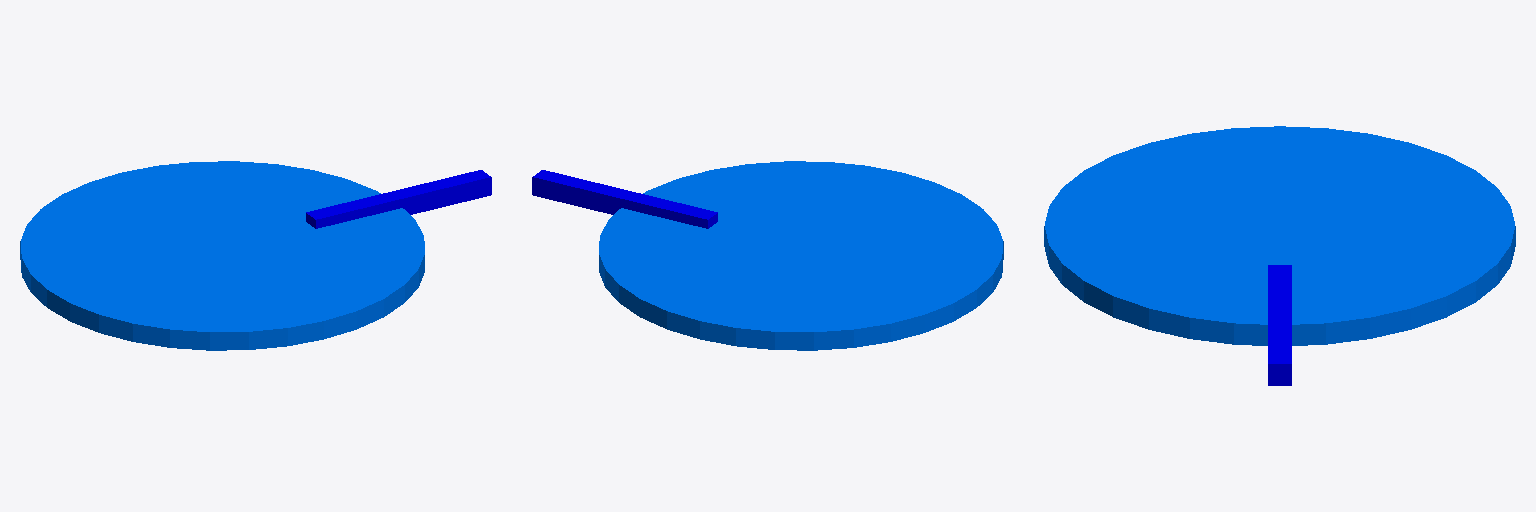
The robot description file, URDF, robot "disk":
<?xml version="1.0"?>
    <robot name="disk">
        <link name="world">
            <inertial>
                <mass value="0"/>
                <origin rpy="0 0 0" xyz="0 0 0"/>
                <inertia ixx="0" ixy="0" ixz="0" iyy="0" iyz="0" izz="0"/>
            </inertial>
        </link>

        <joint name="y_to_world" type="prismatic">
            <parent link="world"/>
            <child link="y_prismatic"/>
            <axis xyz="0 1 0"/>
            <limit effort="0.0" lower="1" upper="-1" velocity="1000.0"/>
            <origin rpy="0 0 0" xyz="0 0 0"/>
        </joint>

        <link name="y_prismatic">
            <inertial>
                <mass value="0.01"/>
                <inertia ixx="0.2125" ixy="-0.005" ixz="0.0225" iyy="0.205" iyz="0.045" izz="0.0125"/>
                <origin rpy="0 0 0" xyz="0 0 0"/>
            </inertial>
        </link>

        <joint name="x_to_y" type="prismatic">
            <parent link="y_prismatic"/>
            <child link="x_prismatic"/>
            <axis xyz="1 0 0"/>
            <limit effort="0.0" lower="1" upper="-1" velocity="1000.0"/>
            <origin rpy="0 0 0" xyz="0 0 0"/>
        </joint>

        <link name="x_prismatic">
            <inertial>
                <mass value="0.01"/>
                <inertia ixx="0.2125" ixy="-0.005" ixz="0.0225" iyy="0.205" iyz="0.045" izz="0.0125"/>
                <origin rpy="0 0 0" xyz="0 0 0"/>
            </inertial>
        </link>

        <joint name="base_to_x" type="continuous">
            <parent link="x_prismatic"/>
            <child link="base_link"/>
            <axis xyz="0 0 1"/>
            <origin rpy="0 0 0" xyz="0 0 0"/>
        </joint>

        <link name="base_link">
            <visual>
                <origin xyz="0 0 0.005" rpy="0 0 0"/>
                <geometry>
                    <cylinder length="0.01" radius="0.1"/>
                </geometry>
                <material name="agent_color">
                    <color rgba="0 0.5 1 1"/>
                </material>
            </visual>

            <collision>
                <origin xyz="0 0 0.005" rpy="0 0 0"/>
                <geometry>
                    <cylinder length="0.01" radius="0.1"/>
                </geometry>
            </collision>

            <inertial>
                <origin xyz="0 0 0" rpy="0 0 0"/>
                <mass value="1.0"/>
                <inertia ixx="0.002508" ixy="0" ixz="0" iyy="0.002508" iyz="0" izz="0.005000"/>
            </inertial>
        </link>

        <joint name= "block_to_base" type="fixed">
            <parent link="base_link"/>
            <child link="heading_block"/>
            <origin xyz="0.05 0 0.005" rpy="0 0 0"/>
        </joint>

        <link name="heading_block">
            <visual>
                <origin xyz="0.05 0 0.005" rpy="0 0 0"/>
                <geometry>
                    <box size="0.1 0.01 0.01"/>
                </geometry>
                <material name="block_color"><color rgba="0 0 1 1"/></material>
            </visual>
        </link>
    </robot>
    

--- What the picture shows (computed from the rendered views, not written in the file) ---
Views: 3 orthographic renders of the robot side by side, from view 1: azimuth 30°, elevation 25°; view 2: azimuth 150°, elevation 25°; view 3: azimuth 270°, elevation 25°.
Robot: disk — 5 links, 4 joints (1 continuous, 2 prismatic, 1 fixed); root link world; default pose: all joints at 0.
Visible links, largest first — view 1: base_link, heading_block; view 2: base_link, heading_block; view 3: base_link, heading_block.
Boxes of the visible links, x1,y1,x2,y2 form: base_link: (20,161,424,350); heading_block: (306,170,491,228); base_link: (599,161,1003,350); heading_block: (532,170,717,228); base_link: (1044,126,1515,345); heading_block: (1268,265,1291,385).
Size in the robot's own frame: 0.25 by 0.2 by 0.015 metres.
Geometry: primitives only (box / cylinder / sphere), no mesh files.